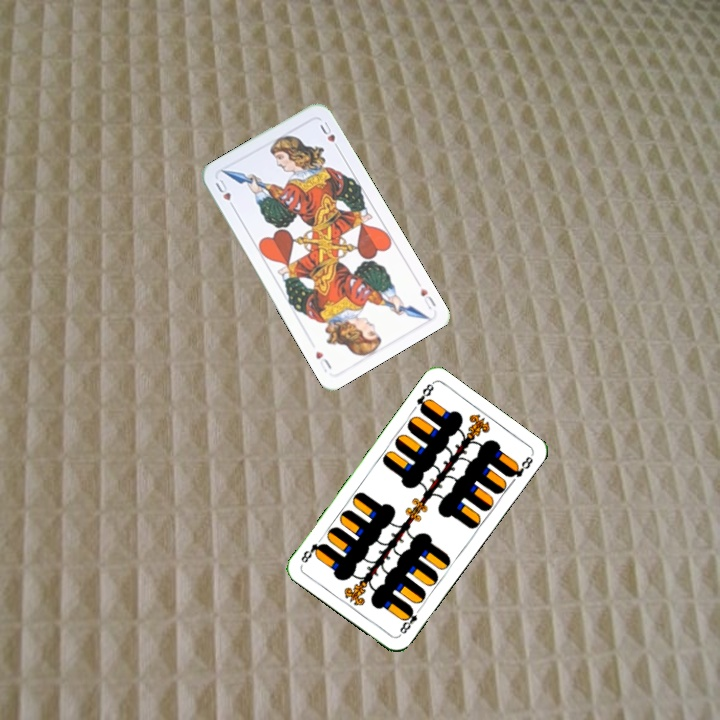E8: (395, 603, 424, 638), (412, 379, 437, 415)
HU: (211, 175, 238, 213), (416, 284, 438, 312)
